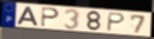3: (63, 8, 82, 31)
7: (129, 14, 146, 34)
8: (86, 10, 104, 32)
A: (16, 6, 40, 27)
P: (105, 12, 126, 33), (40, 7, 61, 28)
